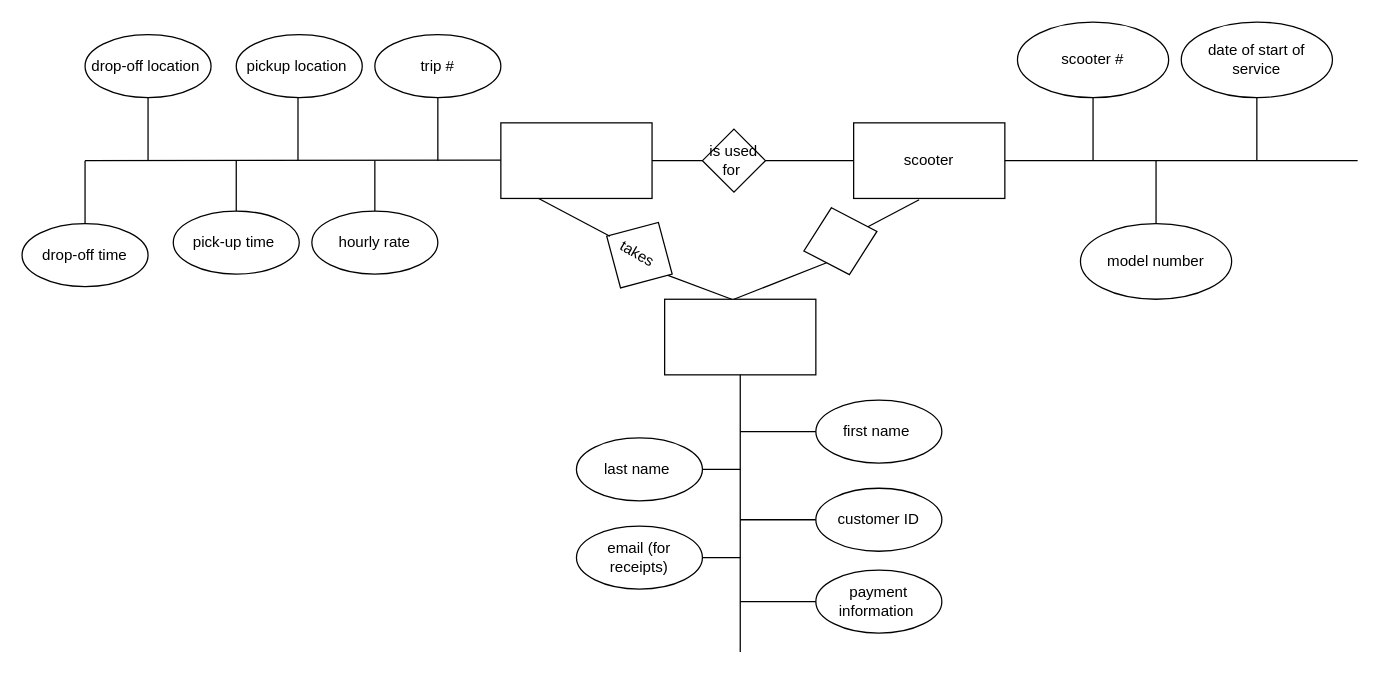
The diagram is 1381 pixels wide and 675 high, and some of its shapes have lost their labels. The shapes that lost their labels are listed below. From the top down, each one's box as (x1, y1, x2, y2) in pixels, then its label:
(500, 122, 652, 198): trip
(794, 197, 886, 285): rent
(663, 298, 816, 375): customer
